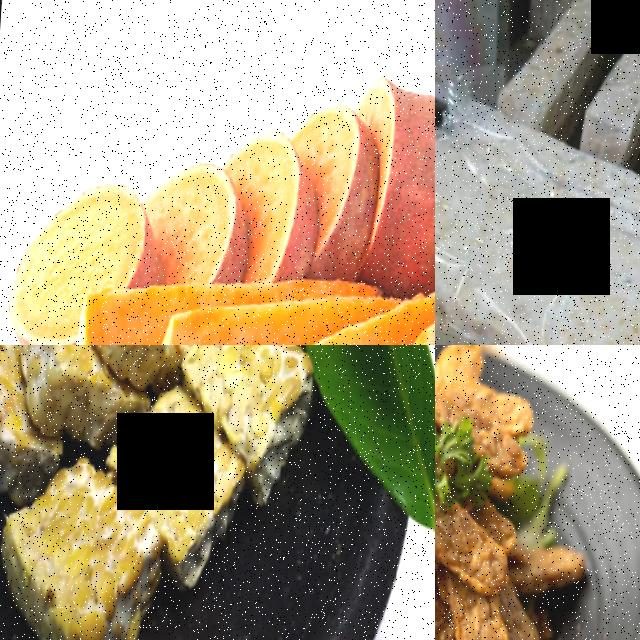sweet potato: (10, 170, 162, 291), (375, 71, 435, 227)
tempeh: (493, 206, 640, 345), (435, 108, 518, 314), (9, 345, 105, 437), (0, 345, 33, 494), (78, 345, 195, 381)
tofu: (1, 462, 154, 640), (134, 382, 248, 571), (199, 345, 318, 475)
